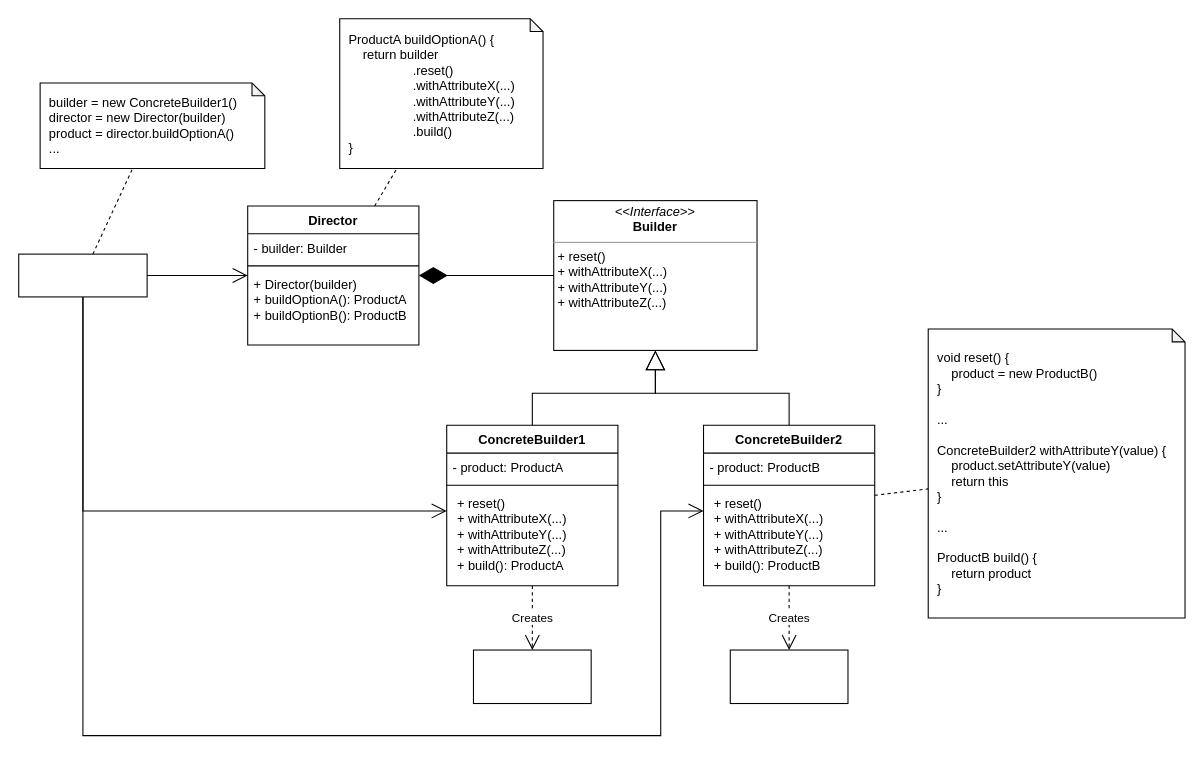
Image size: 1204x769. Some labels were removed from this diagram. Here are the shapes that lost their labels. From the top down, the centre of each, then its label:
At (82,275): "Client".
At (531,676): "ProductA".
At (788,676): "ProductB".
